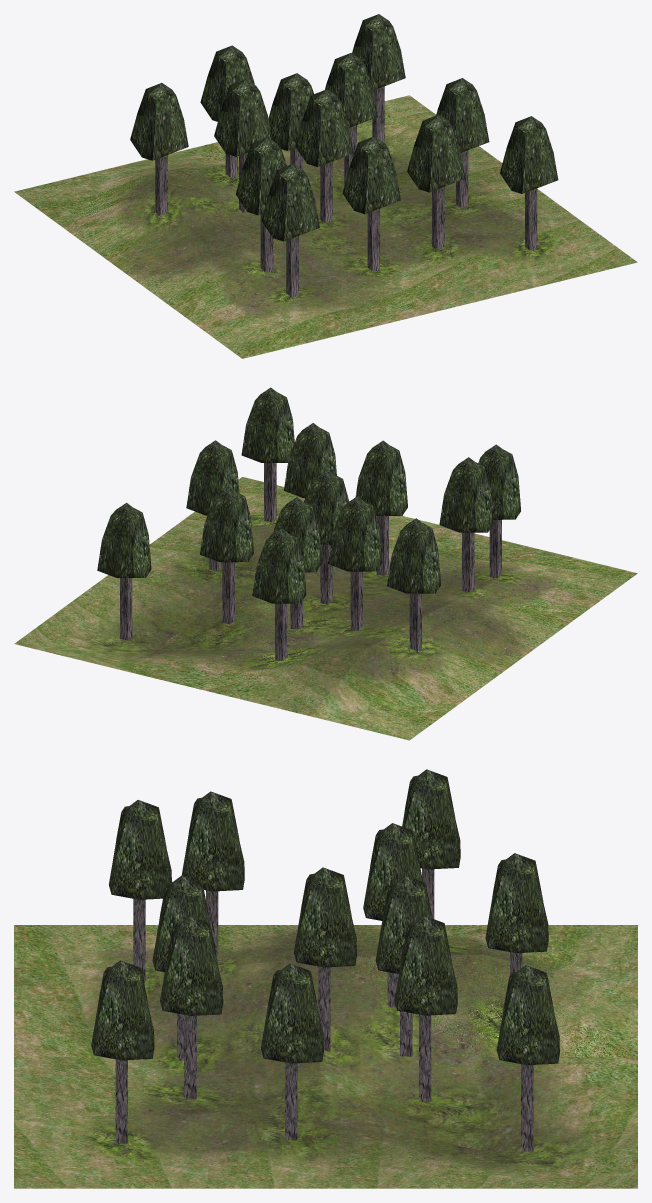
Rendered from Forest1.obj.
3 renders of one model, top to bottom at view 1: azimuth 30°, elevation 25°; view 2: azimuth 150°, elevation 25°; view 3: azimuth 270°, elevation 25°, orthographic. The views are drawn at different scales.
Parts seen in each view (by area): view 1: Plane, Tree.006_Cube.006, Tree.002_Cube.002, Tree.012_Cube.012, Tree_Cube.001, Tree.004_Cube.004, Tree.003_Cube.003, Tree.007_Cube.007, Tree.010_Cube.010, Tree.005_Cube.005, Tree.009_Cube.009, Tree.008_Cube.008 (+2 smaller); view 2: Plane, Tree.010_Cube.010, Tree.008_Cube.008, Tree.005_Cube.005, Tree.007_Cube.007, Tree.011_Cube.011, Tree.003_Cube.003, Tree.012_Cube.012, Tree.006_Cube.006, Tree.004_Cube.004, Tree_Cube.001, Tree.009_Cube.009 (+2 smaller); view 3: Plane, Tree.010_Cube.010, Tree.008_Cube.008, Tree.012_Cube.012, Tree.002_Cube.002, Tree.009_Cube.009, Tree_Cube.001, Tree.004_Cube.004, Tree.005_Cube.005, Tree.011_Cube.011, Tree.003_Cube.003, Tree.001_Cube.000 (+2 smaller).
Boxes of the visible parts, x1,y1,x2,y2 form: Plane: (14,95,637,358); Tree.006_Cube.006: (342,136,400,271); Tree.002_Cube.002: (407,114,465,249); Tree.012_Cube.012: (500,116,558,250); Tree_Cube.001: (295,89,353,222); Tree.004_Cube.004: (261,163,319,297); Tree.003_Cube.003: (130,83,188,215); Tree.007_Cube.007: (214,79,271,212); Tree.010_Cube.010: (352,14,405,142); Tree.005_Cube.005: (235,137,286,272); Tree.009_Cube.009: (436,78,489,207); Tree.008_Cube.008: (325,53,377,185); Plane: (14,477,637,740); Tree.010_Cube.010: (97,502,151,640); Tree.008_Cube.008: (200,487,253,624); Tree.005_Cube.005: (439,457,493,591); Tree.007_Cube.007: (328,496,382,630); Tree.011_Cube.011: (252,528,306,660); Tree.003_Cube.003: (387,518,440,651); Tree.012_Cube.012: (241,387,294,522); Tree.006_Cube.006: (355,440,407,575); Tree.004_Cube.004: (478,444,520,578); Tree_Cube.001: (304,469,349,604); Tree.009_Cube.009: (186,440,239,570); Plane: (14,925,637,1188); Tree.010_Cube.010: (496,965,559,1151); Tree.008_Cube.008: (394,915,457,1101); Tree.012_Cube.012: (91,960,154,1143); Tree.002_Cube.002: (160,916,223,1099); Tree.009_Cube.009: (261,963,323,1140); Tree_Cube.001: (294,867,356,1051); Tree.004_Cube.004: (109,800,171,982); Tree.005_Cube.005: (182,791,244,965); Tree.011_Cube.011: (485,853,548,975); Tree.003_Cube.003: (402,769,460,918); Tree.001_Cube.000: (375,875,432,1056).
Bounding box in the file's own units: 2 × 0.8081 × 2.
